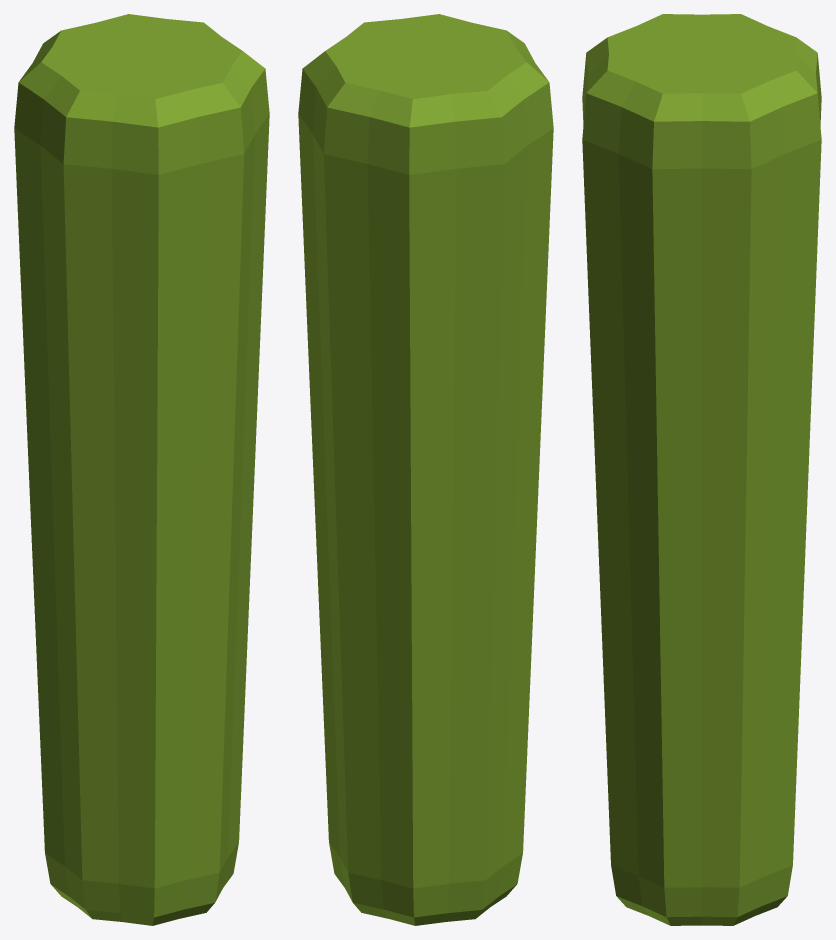
Rendered from Cactus_11_A.fbx.
3 renders of one model, left to right at view 1: azimuth 30°, elevation 25°; view 2: azimuth 150°, elevation 25°; view 3: azimuth 270°, elevation 25°, orthographic.
Visible parts, largest first — view 1: Cactus_11_A; view 2: Cactus_11_A; view 3: Cactus_11_A.
Boxes of the visible parts, x1,y1,x2,y2 form: Cactus_11_A: (14, 14, 269, 925); Cactus_11_A: (298, 14, 553, 925); Cactus_11_A: (582, 14, 821, 925).
Size of the model in its own units: 54.63 by 212 by 54.63.
